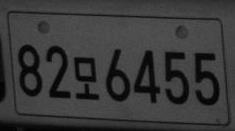2: (44, 44, 71, 99)
4: (132, 49, 161, 103)
5: (163, 50, 190, 105), (193, 51, 220, 106)
6: (105, 48, 131, 103)
8: (17, 43, 43, 97)
모: (73, 55, 99, 100)
